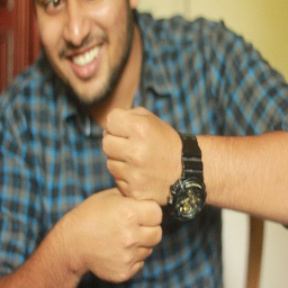G: (80, 101, 186, 288)
